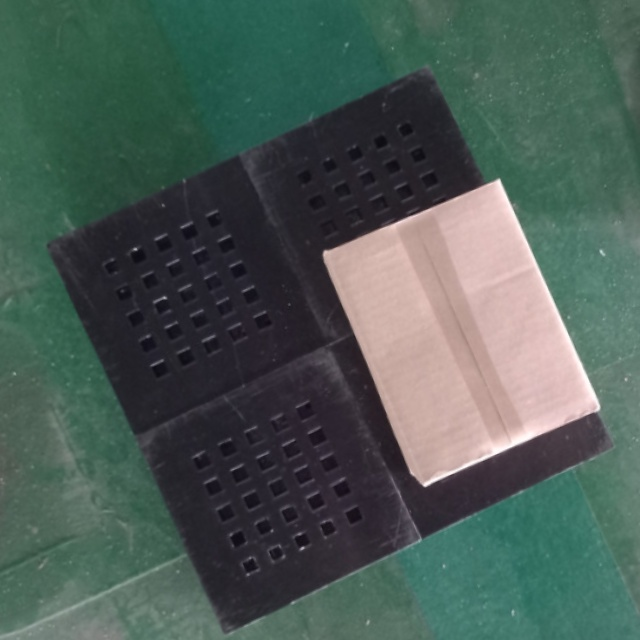box: (314, 175, 608, 498)
pallet: (39, 65, 613, 640)
